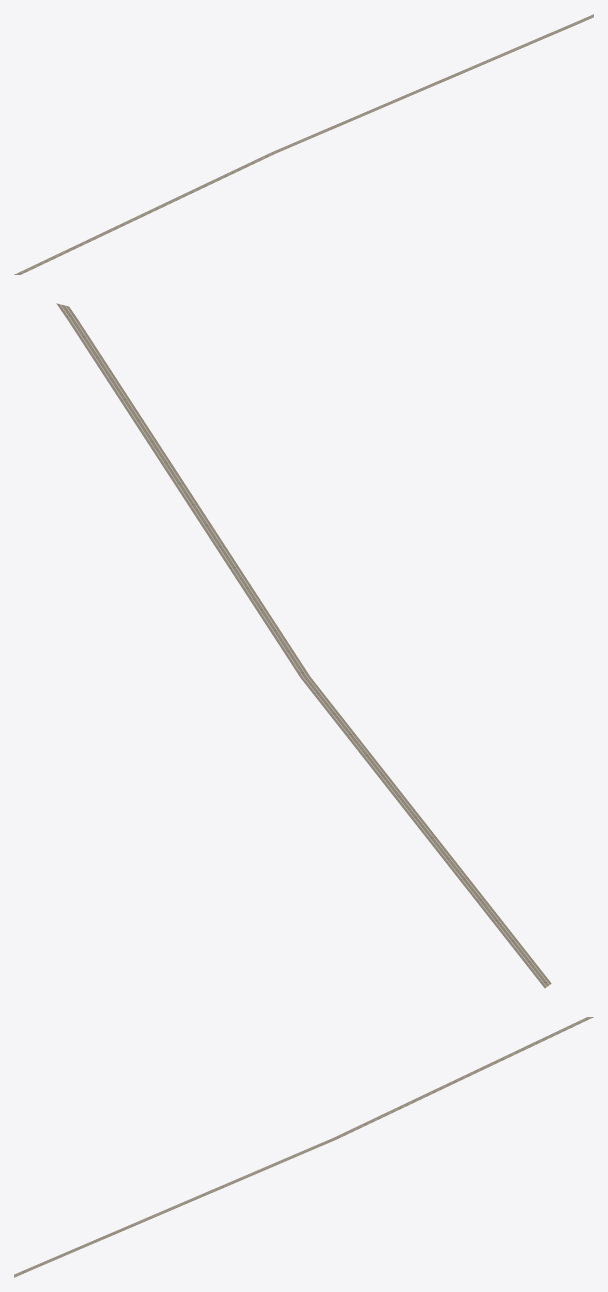
3 renders of one model, top to bottom at view 1: azimuth 90°, elevation 25°; view 2: azimuth 150°, elevation 25°; view 3: azimuth 270°, elevation 25°, orthographic. The views are drawn at different scales.
Parts seen in each view (by area): view 1: rail; view 2: rail; view 3: rail.
Boxes of the visible parts, x1,y1,x2,y2 form: rail: (14,14,593,274); rail: (56,303,551,988); rail: (14,1017,593,1277).
Bounding box in the file's own units: 431 × 0.04 × 406.
